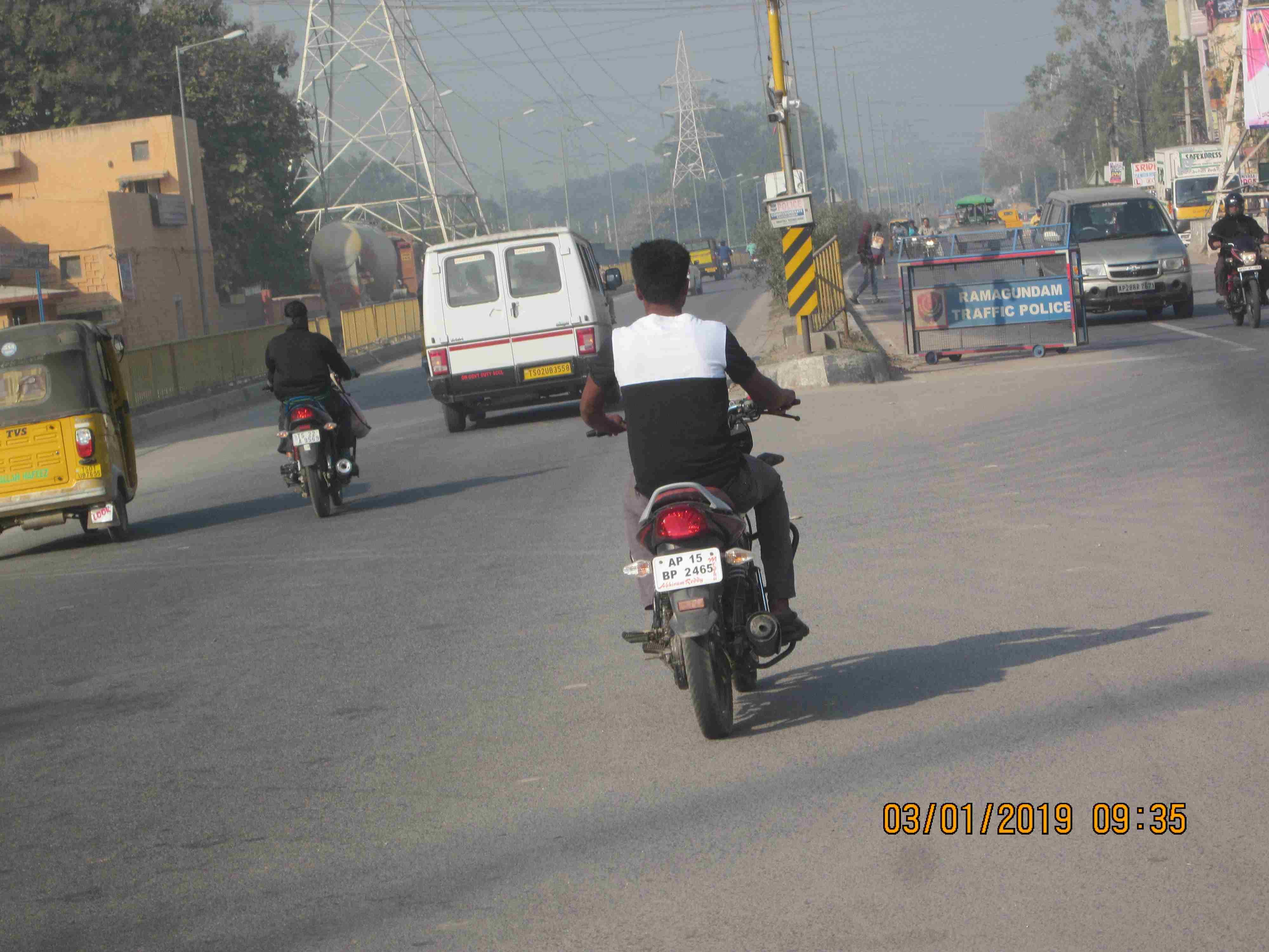plate: (644, 542, 735, 594)
